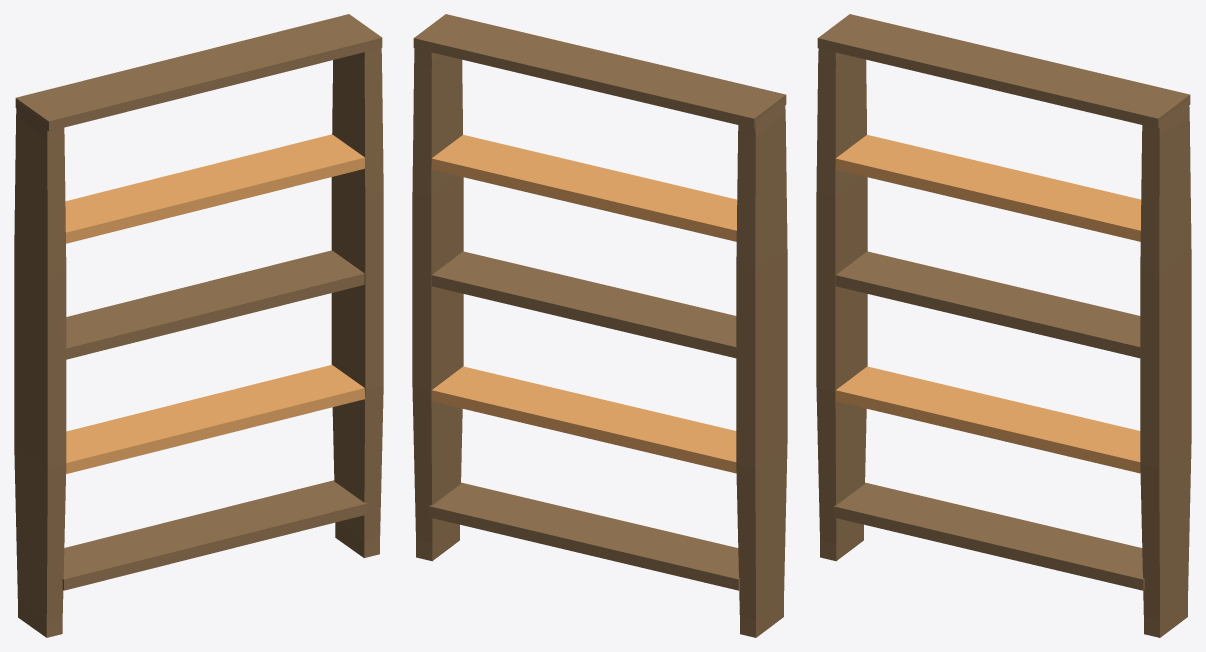
File: Shelf.fbx
The picture shows the model from 3 angles, left to right: view 1: azimuth 30°, elevation 25°; view 2: azimuth 150°, elevation 25°; view 3: azimuth 330°, elevation 25°; orthographic projection.
Visible parts, largest first — view 1: Shelf; view 2: Shelf; view 3: Shelf.
Part boxes in pixels (x1,y1,x2,y2): Shelf: [14, 14, 383, 637]; Shelf: [412, 14, 787, 637]; Shelf: [816, 14, 1191, 637].
Size of the model in its own units: 102 by 150 by 18.49.
